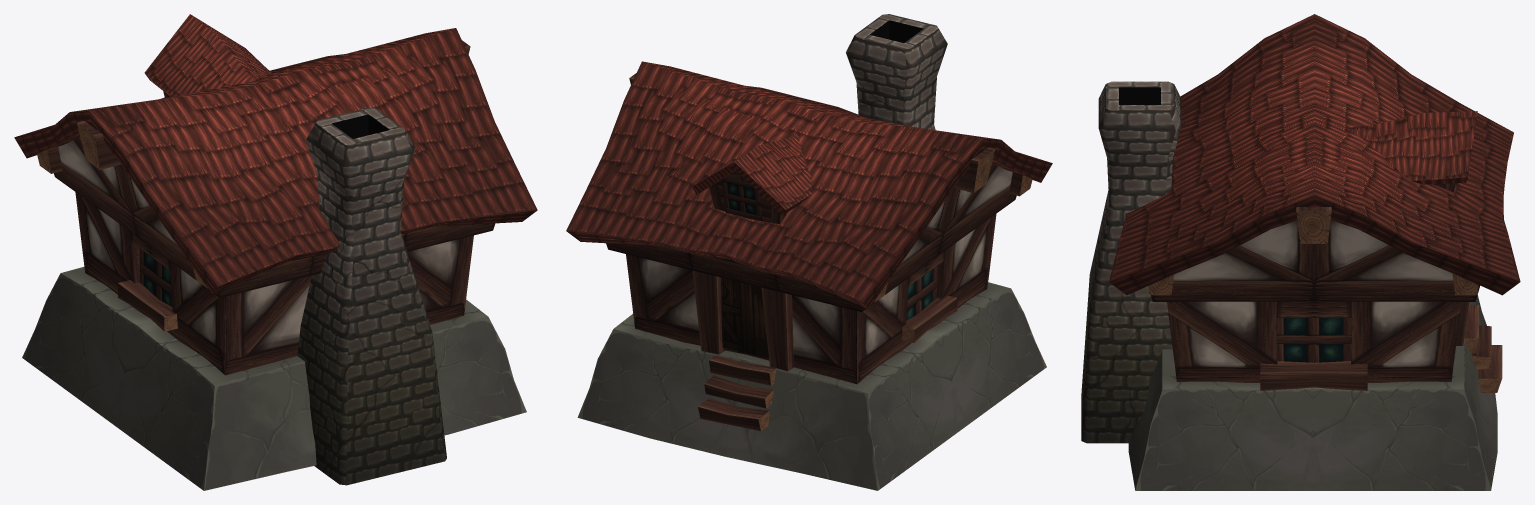
File: Home.FBX
3 views of the same model, side by side, from view 1: azimuth 30°, elevation 25°; view 2: azimuth 150°, elevation 25°; view 3: azimuth 270°, elevation 25° (orthographic). The views are drawn at different scales.
Visible parts, largest first — view 1: Box038, Box035, Box041, Box036, Box040, Box037, Box039; view 2: Box038, Box035, Box036, Box037, Box041, Box040, Box042, Box039; view 3: Box038, Box035, Box036, Box041, Box037, Box040, Box039.
Part boxes in pixels (bbox=[...]): Box038: bbox=[14, 28, 537, 294]; Box035: bbox=[22, 267, 526, 490]; Box041: bbox=[297, 107, 446, 485]; Box036: bbox=[54, 138, 495, 375]; Box040: bbox=[144, 14, 271, 97]; Box037: bbox=[37, 40, 470, 331]; Box039: bbox=[139, 248, 172, 306]; Box038: bbox=[566, 61, 1052, 308]; Box035: bbox=[577, 282, 1046, 490]; Box036: bbox=[606, 164, 1016, 384]; Box037: bbox=[629, 73, 1032, 430]; Box041: bbox=[846, 14, 947, 130]; Box040: bbox=[692, 132, 812, 224]; Box042: bbox=[721, 277, 768, 358]; Box039: bbox=[722, 177, 936, 320]; Box038: bbox=[1109, 14, 1520, 295]; Box035: bbox=[1128, 295, 1497, 490]; Box036: bbox=[1151, 220, 1480, 382]; Box041: bbox=[1081, 81, 1181, 443]; Box037: bbox=[1148, 207, 1502, 392]; Box040: bbox=[1346, 111, 1477, 192]; Box039: bbox=[1276, 183, 1456, 362].
Bounding box in the file's own units: 80.55 × 66.8 × 83.39.
